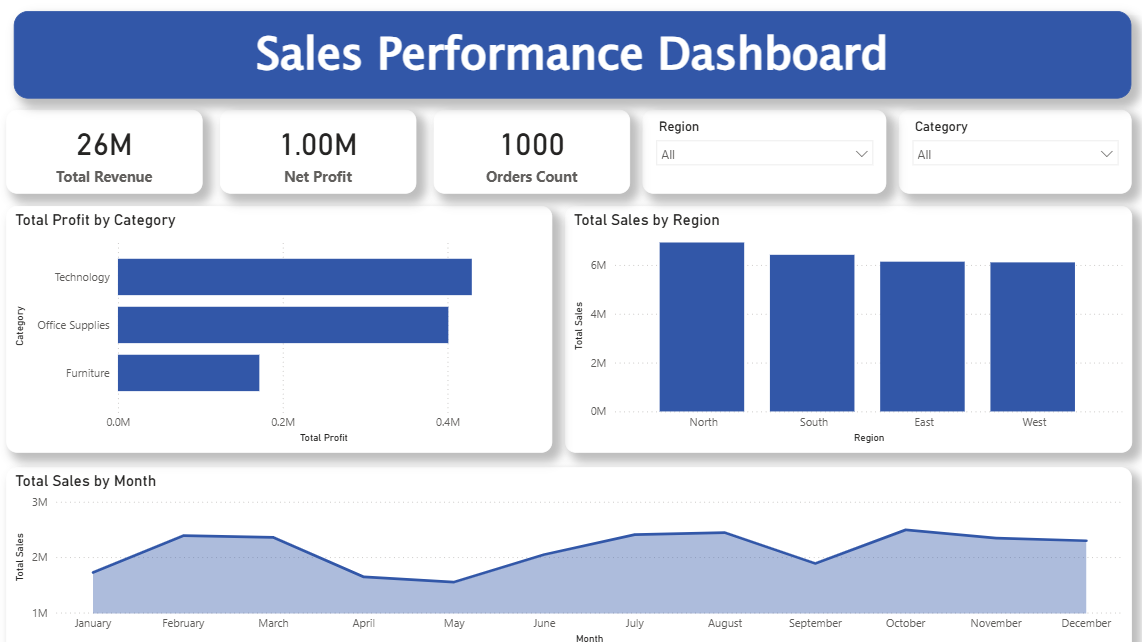

What the dashboard file says about the page in this screenshot:
{"tool":"powerbi","page":{"name":"Page 1","canvas":[1280,720],"ordinal":0},"visuals":[{"type":"card","fields":{"Values":["Measure Table.Total Sales"]},"box":[17.8,124.9,215.4,91.9],"z":0},{"type":"columnChart","fields":{"Y":["Measure Table.Total Sales"],"Category":["sales_dataset_1000_rows.Region"]},"box":[629.8,230.5,621.6,270.3],"z":1000},{"type":"areaChart","fields":{"Category":["sales_dataset_1000_rows.Order_Date.Variation.Date Hierarchy.Month"],"Y":["Measure Table.Total Sales"]},"box":[17.8,516,1233.6,204.5],"z":2000},{"type":"barChart","fields":{"Category":["sales_dataset_1000_rows.Category"],"Y":["Measure Table.Total Profit"]},"box":[17.8,230.5,598.3,270.3],"z":3000},{"type":"slicer","fields":{"Values":["sales_dataset_1000_rows.Category"]},"box":[996.2,124.9,255.2,91.9],"z":4000},{"type":"slicer","fields":{"Values":["sales_dataset_1000_rows.Region"]},"box":[714.9,124.9,267.6,91.9],"z":5000},{"type":"card","fields":{"Values":["Measure Table.Total Profit"]},"box":[252.5,124.9,215.4,91.9],"z":6000},{"type":"card","fields":{"Values":["Measure Table.Total Orders"]},"box":[485.8,124.9,215.4,91.9],"z":7000},{"type":"textbox","box":[26,16.4,1224.7,95.9],"z":8000}]}

Visuals, with their boxes in screenshot pixels (x1, y1, x2, y2), scaled from the page's 1280x720 canvas onto the 1142x642 screenshot:
card - Measure Table.Total Sales: l=16, t=111, r=208, b=193
columnChart - Measure Table.Total Sales x sales_dataset_1000_rows.Region: l=562, t=206, r=1116, b=447
areaChart - sales_dataset_1000_rows.Order_Date.Variation.Date Hierarchy.Month x Measure Table.Total Sales: l=16, t=460, r=1116, b=641
barChart - sales_dataset_1000_rows.Category x Measure Table.Total Profit: l=16, t=206, r=550, b=447
slicer - sales_dataset_1000_rows.Category: l=889, t=111, r=1116, b=193
slicer - sales_dataset_1000_rows.Region: l=638, t=111, r=877, b=193
card - Measure Table.Total Profit: l=225, t=111, r=417, b=193
card - Measure Table.Total Orders: l=433, t=111, r=626, b=193
textbox: l=23, t=15, r=1116, b=100
